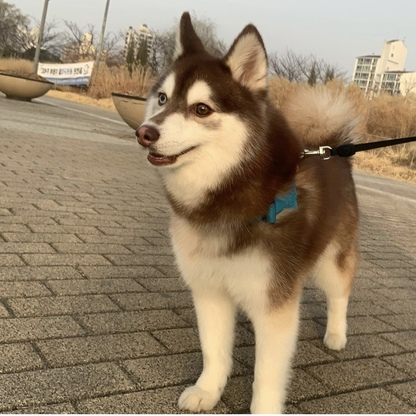husky: (132, 7, 369, 416)
